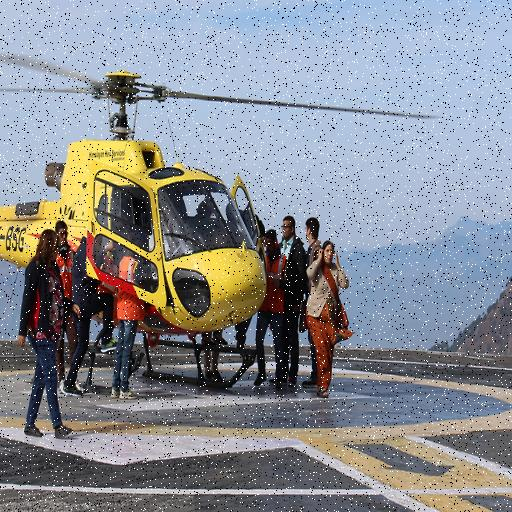helicopter: (1, 28, 298, 400)
